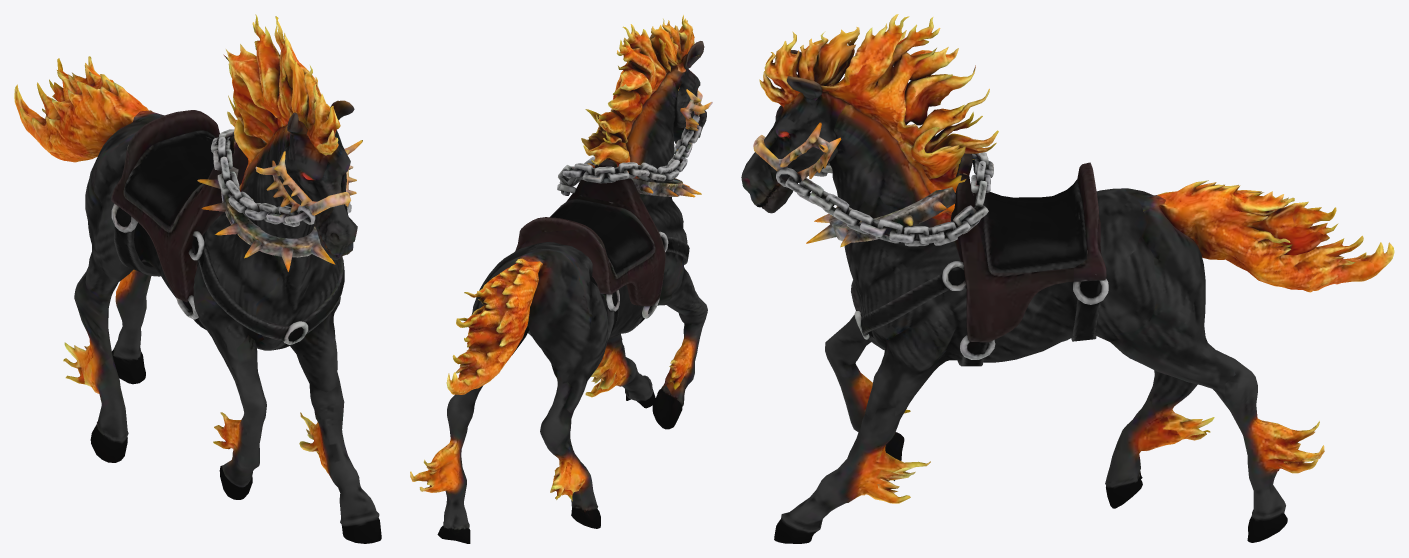
Rendered from MZ4250 - Nightmare_alt Mount.glb.
The picture shows the model from 3 angles, left to right: view 1: azimuth 30°, elevation 25°; view 2: azimuth 150°, elevation 25°; view 3: azimuth 270°, elevation 25°; orthographic projection. The views are drawn at different scales.
Visible parts, largest first — view 1: Horse-base.002; view 2: Horse-base.002; view 3: Horse-base.002.
Part boxes in pixels (x1=…): Horse-base.002: x1=14, y1=14, x2=381, y2=543; Horse-base.002: x1=410, y1=15, x2=712, y2=543; Horse-base.002: x1=741, y1=14, x2=1394, y2=543.
Bounding box in the file's own units: 40.51 × 136 × 154.
2 materials, 2 textured.
